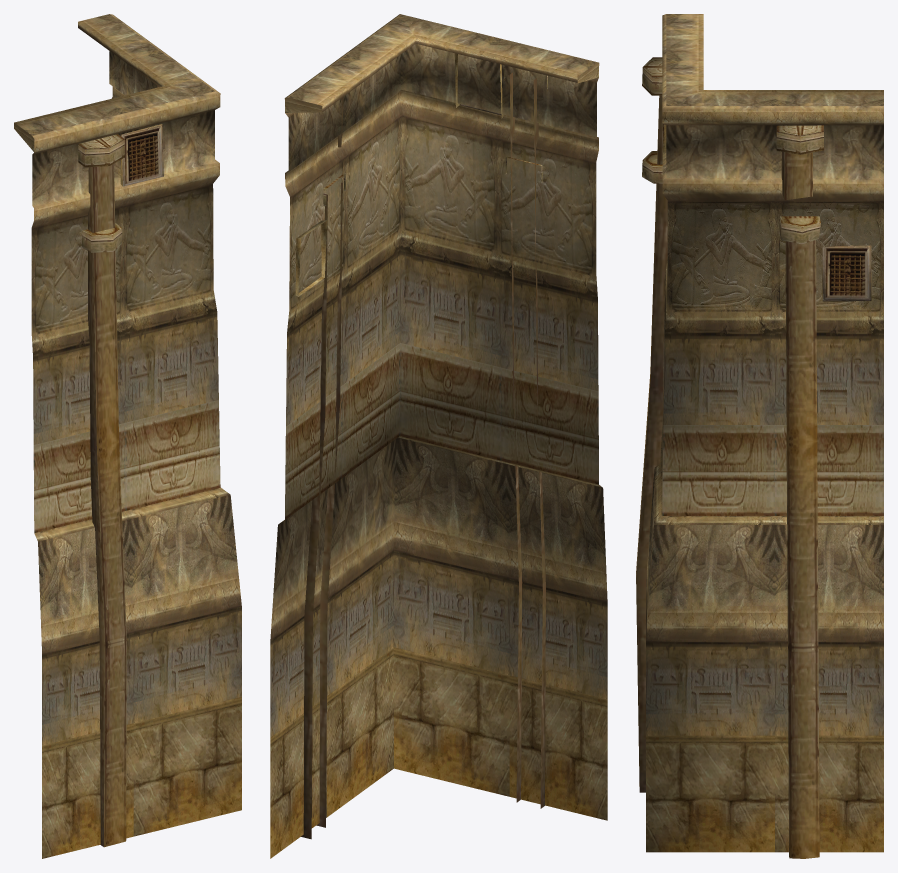
Rendered from S_Build_Desert061.FBX.
3 views of the same model, side by side, from view 1: azimuth 30°, elevation 25°; view 2: azimuth 150°, elevation 25°; view 3: azimuth 270°, elevation 25° (orthographic). The views are drawn at different scales.
Visible parts, largest first — view 1: S_Build_Desert061; view 2: S_Build_Desert061; view 3: S_Build_Desert061.
Boxes of the visible parts, <box> form: S_Build_Desert061: <box>14,14,241,858</box>; S_Build_Desert061: <box>270,14,607,858</box>; S_Build_Desert061: <box>636,14,883,858</box>.
Bounding box in the file's own units: 2314 × 2301 × 7591.
